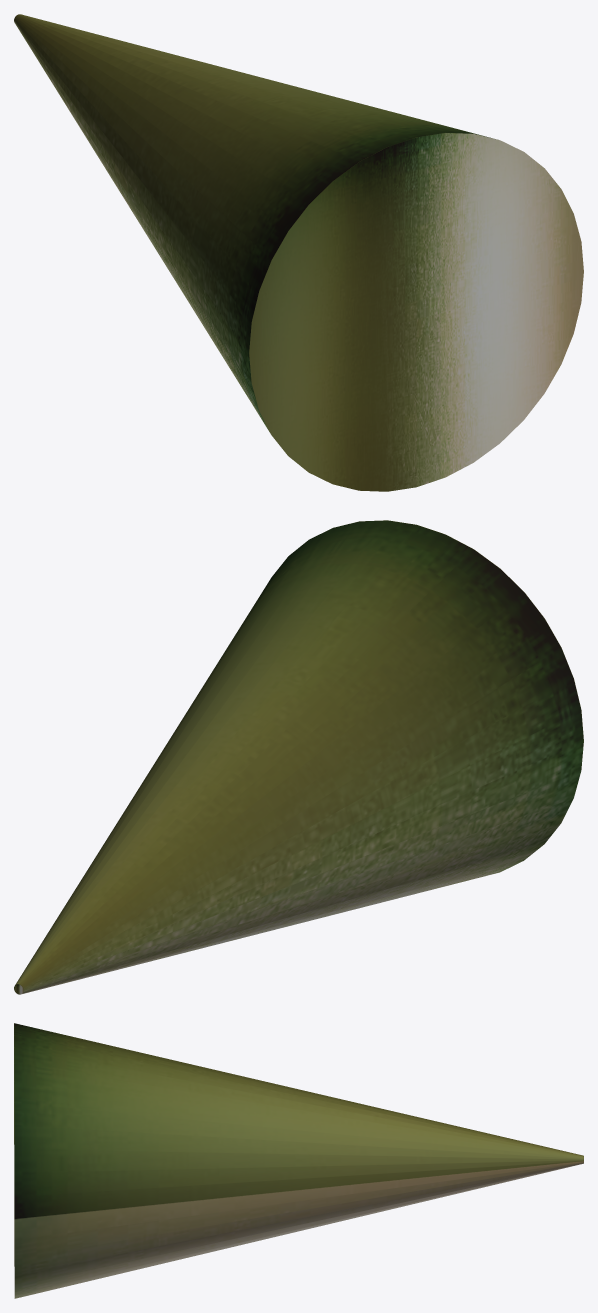
Rendered from common.fbx.
3 views of the same model, one above another, from view 1: azimuth 30°, elevation 25°; view 2: azimuth 150°, elevation 25°; view 3: azimuth 270°, elevation 25° (orthographic). The views are drawn at different scales.
Visible parts, largest first — view 1: root; view 2: root; view 3: root.
Part boxes in pixels (x1,y1,x2,y2): root: [14, 14, 583, 491]; root: [14, 520, 583, 994]; root: [14, 1023, 583, 1298].
Size of the model in its own units: 97.2 by 97.2 by 200.
Materials: 1 (1 with a texture image).
